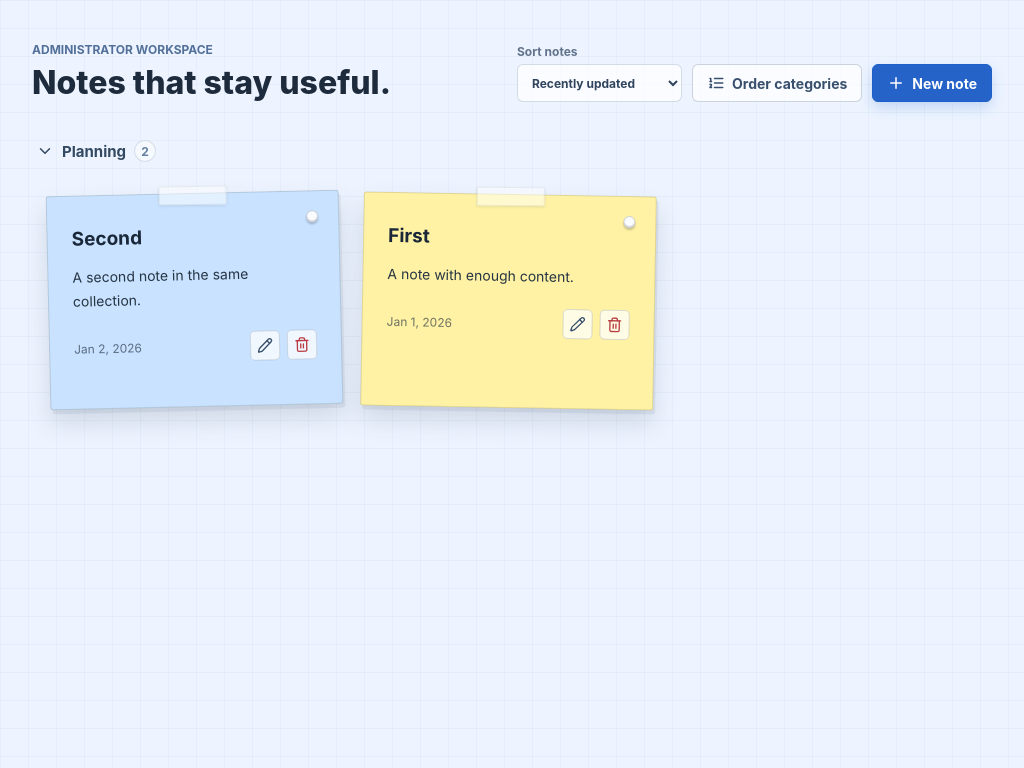
NoteBoard collection state › keeps the editor and draft open when a host mutation fails
Click the button "New note". click: (932, 83)
box: [872,64,992,102]
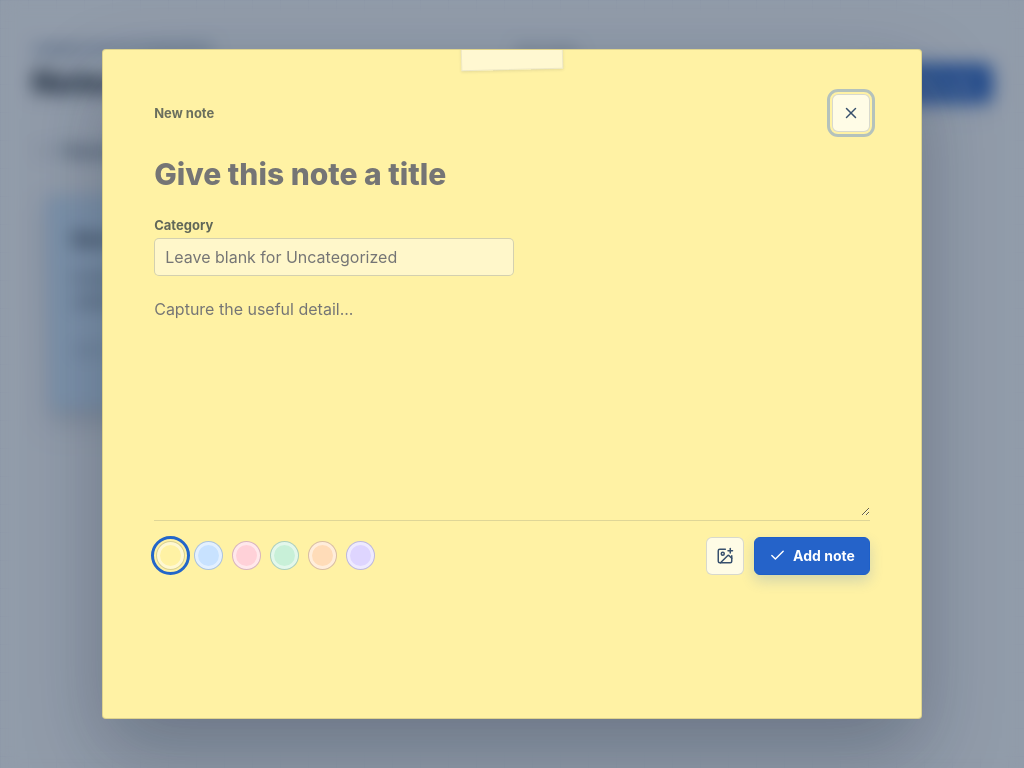
Type "Keep this draft" into the field with class "title-input". click: (512, 180)
box: [154,156,870,204]
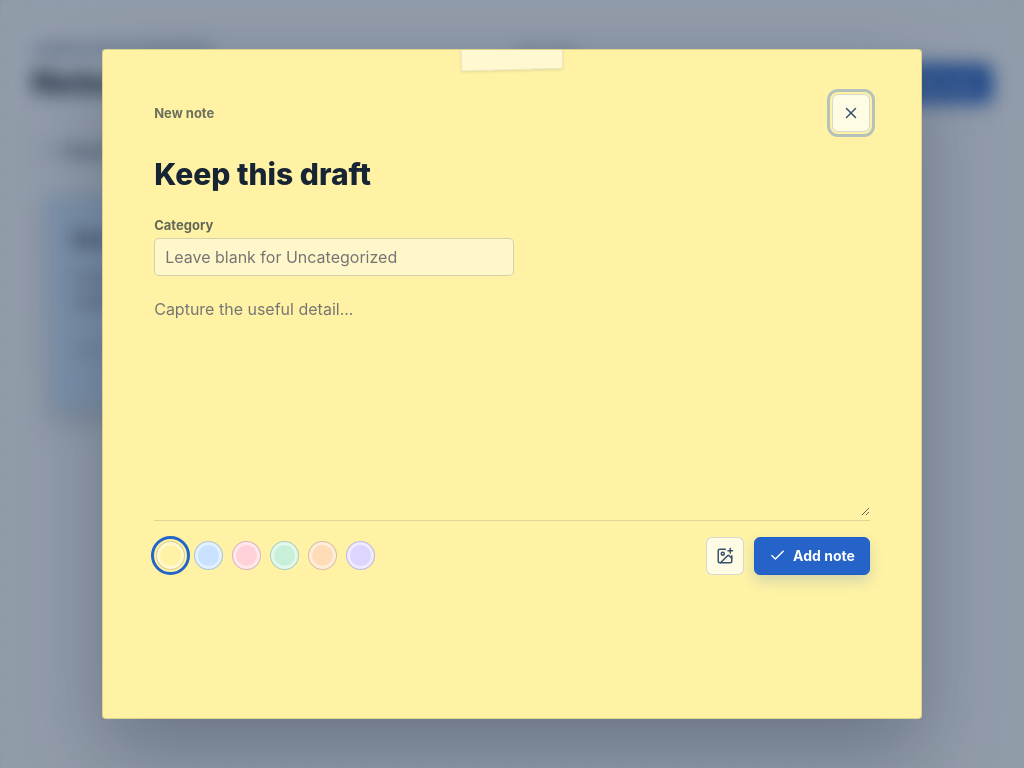
Type "A failed save must not discard this work." into the text box with class "content-input". click: (512, 396)
box: [154,276,870,516]
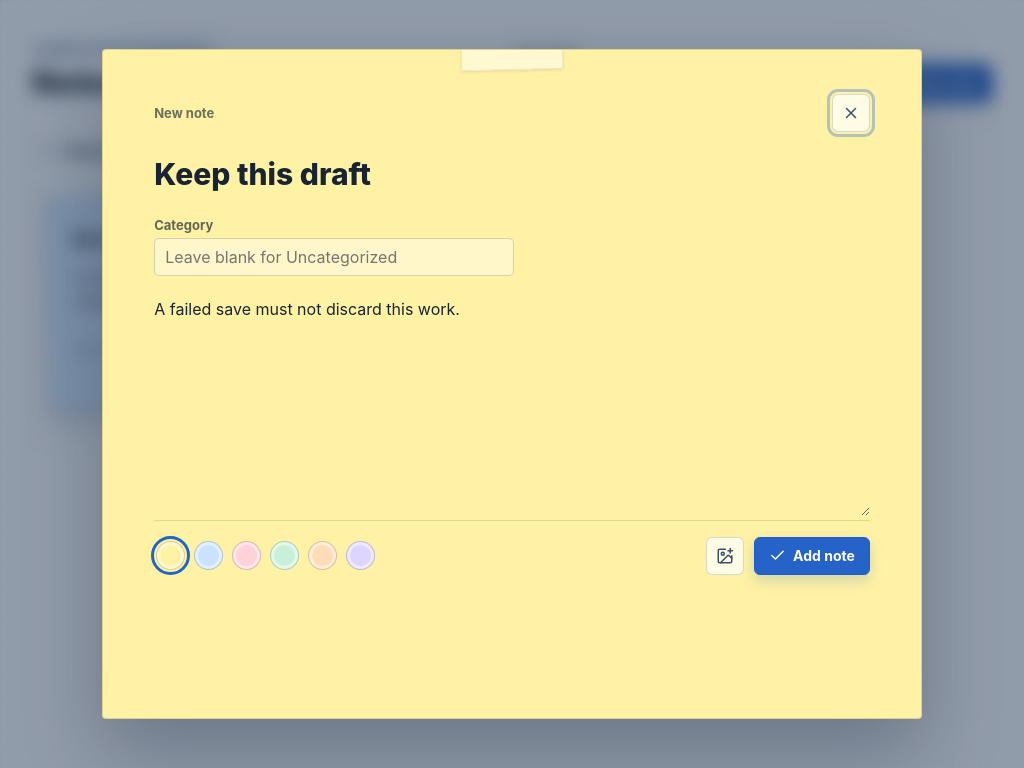
Submit the dialog with class "composer"
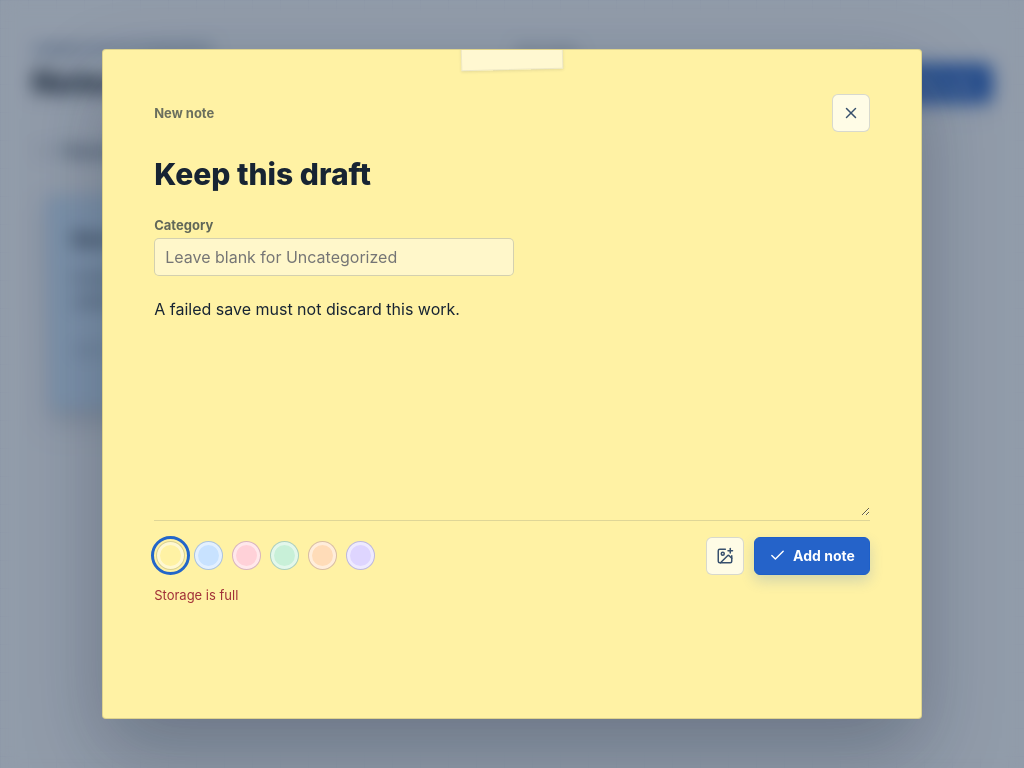
Check: the dialog with class "composer" is shown
Check: the field with class "title-input" holds "Keep this draft", box [154,156,870,204]
Check: the message with class "form-error" reads "Storage is full", box [154,586,238,602]
